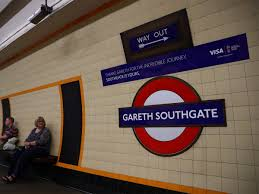London Underground: (118, 75, 229, 154)
